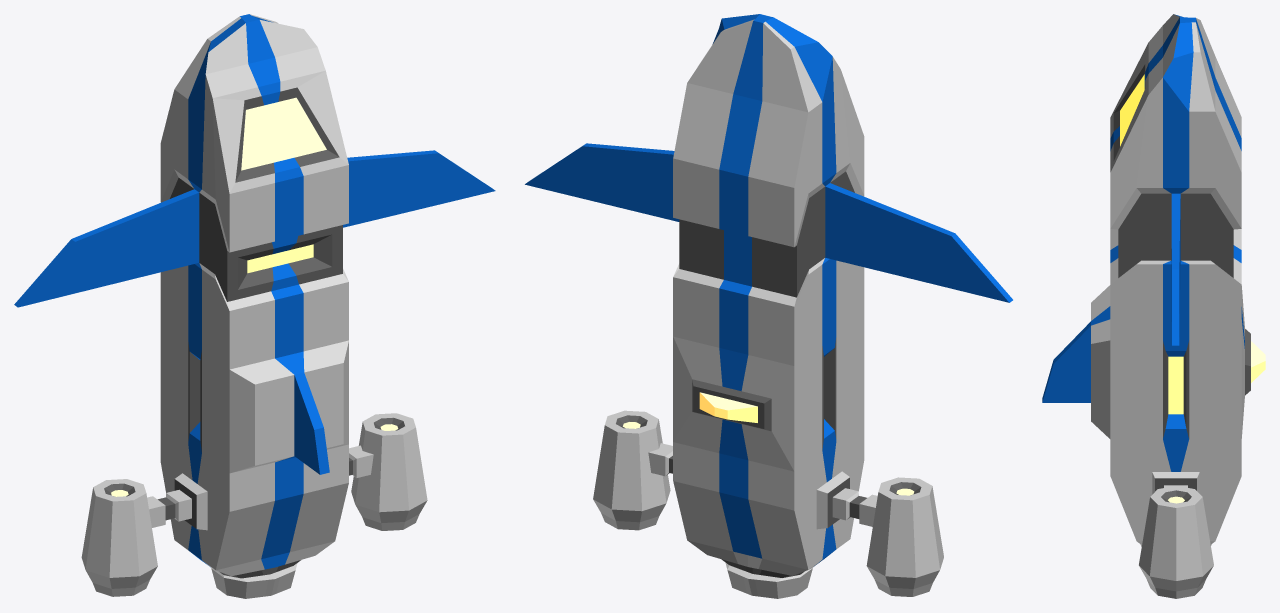
Rendered from Spaceship.fbx.
3 views of the same model, side by side, from view 1: azimuth 30°, elevation 25°; view 2: azimuth 150°, elevation 25°; view 3: azimuth 270°, elevation 25° (orthographic). The views are drawn at different scales.
Visible parts, largest first — view 1: Cube; view 2: Cube; view 3: Cube.
Part boxes in pixels (left/top/right/bottom): Cube: left=14, top=14, right=495, bottom=598; Cube: left=525, top=14, right=1012, bottom=598; Cube: left=1042, top=14, right=1265, bottom=598.
Bounding box in the file's own units: 800 × 897 × 340.
